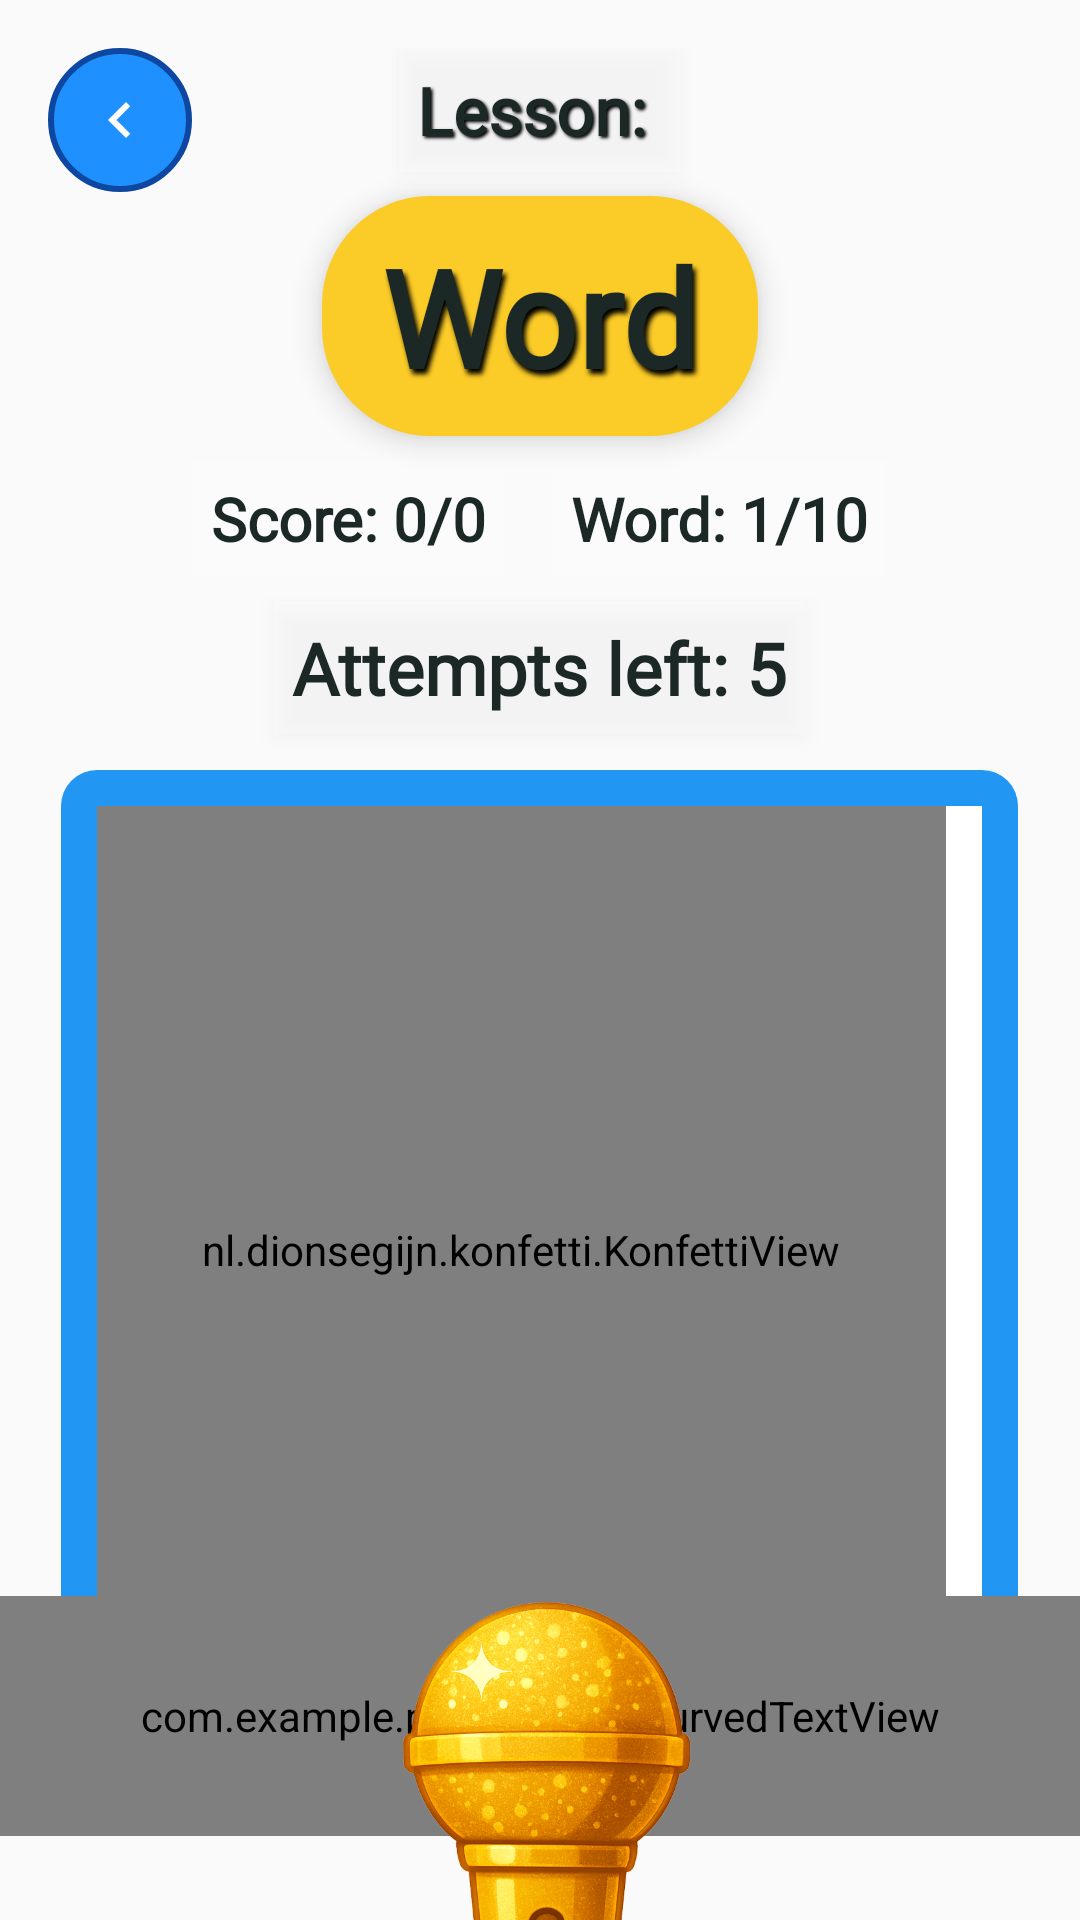

Screen size 1080 × 1920. Icon name, then its center in pixels as (x=x, y=y):
Back: (x=120, y=120)
